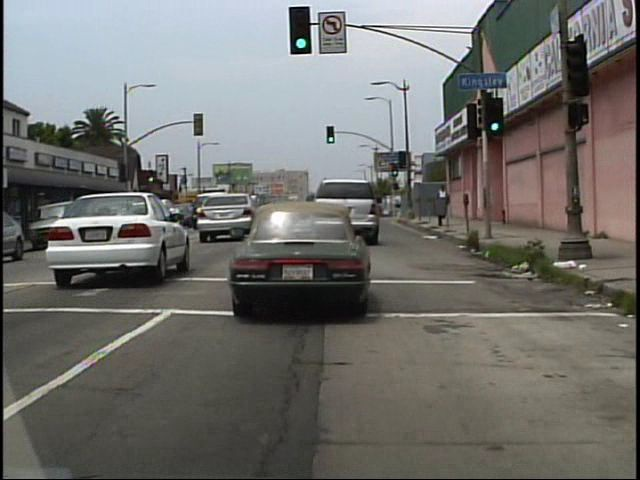person: (436, 185, 450, 218)
